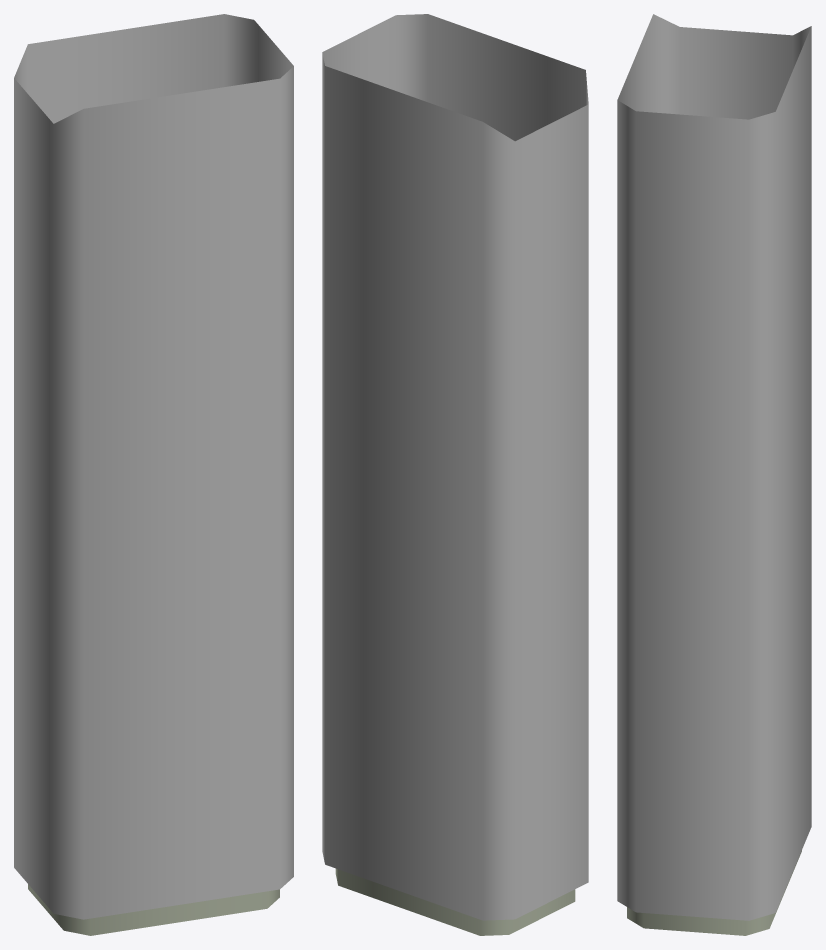
The picture shows the model from 3 angles, left to right: view 1: azimuth 30°, elevation 25°; view 2: azimuth 150°, elevation 25°; view 3: azimuth 270°, elevation 25°; orthographic projection.
Parts seen in each view (by area): view 1: Joint_0_Object_0, Joint_0_Object_1; view 2: Joint_0_Object_0, Joint_0_Object_1; view 3: Joint_0_Object_0, Joint_0_Object_1.
Boxes of the visible parts, x1,y1,x2,y2 form: Joint_0_Object_0: [14, 14, 293, 919]; Joint_0_Object_1: [28, 884, 279, 935]; Joint_0_Object_0: [322, 14, 588, 920]; Joint_0_Object_1: [335, 868, 575, 935]; Joint_0_Object_0: [617, 14, 811, 920]; Joint_0_Object_1: [627, 850, 801, 935].
Bounding box in the file's own units: 117 × 395 × 84.56.
